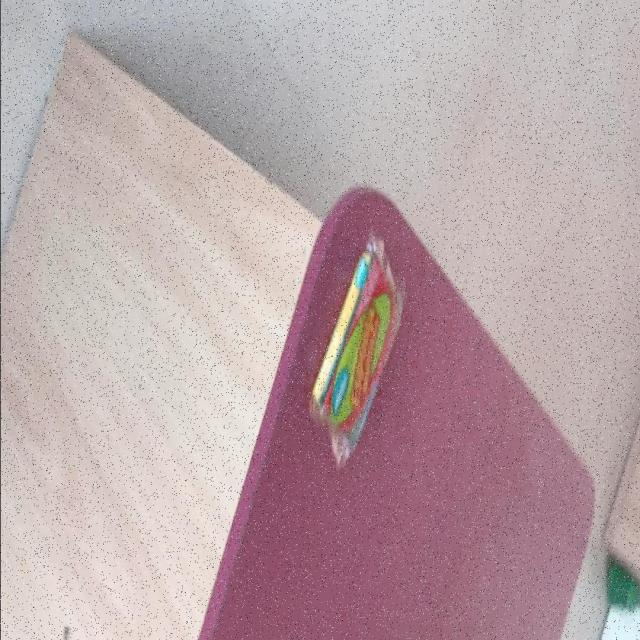Sponge: (308, 232, 408, 469)
